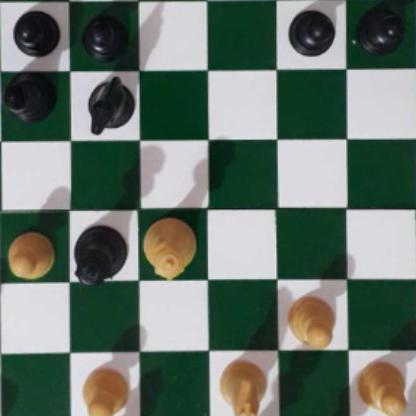black-bishop: (0, 73, 55, 122)
black-knight: (84, 74, 132, 131)
black-pawn: (356, 4, 406, 52), (288, 3, 335, 54), (12, 6, 58, 57), (81, 9, 127, 58)
black-queen: (71, 224, 129, 289)
white-knight: (218, 358, 268, 416)
white-pawn: (355, 356, 410, 415), (4, 227, 57, 279), (285, 291, 335, 346), (80, 364, 129, 416)
white-queen: (143, 215, 196, 281)
